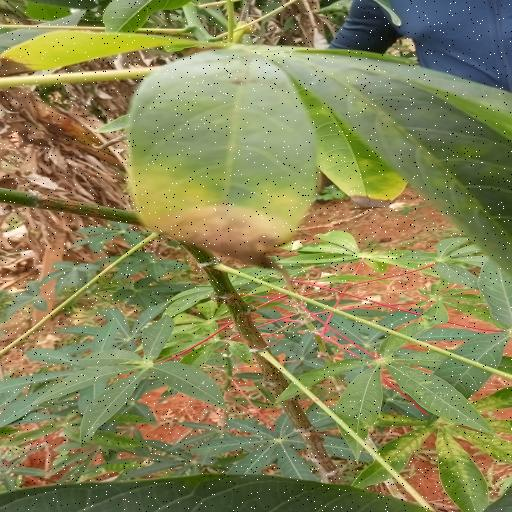Cassava_Root_Rot: (20, 18, 512, 290)
